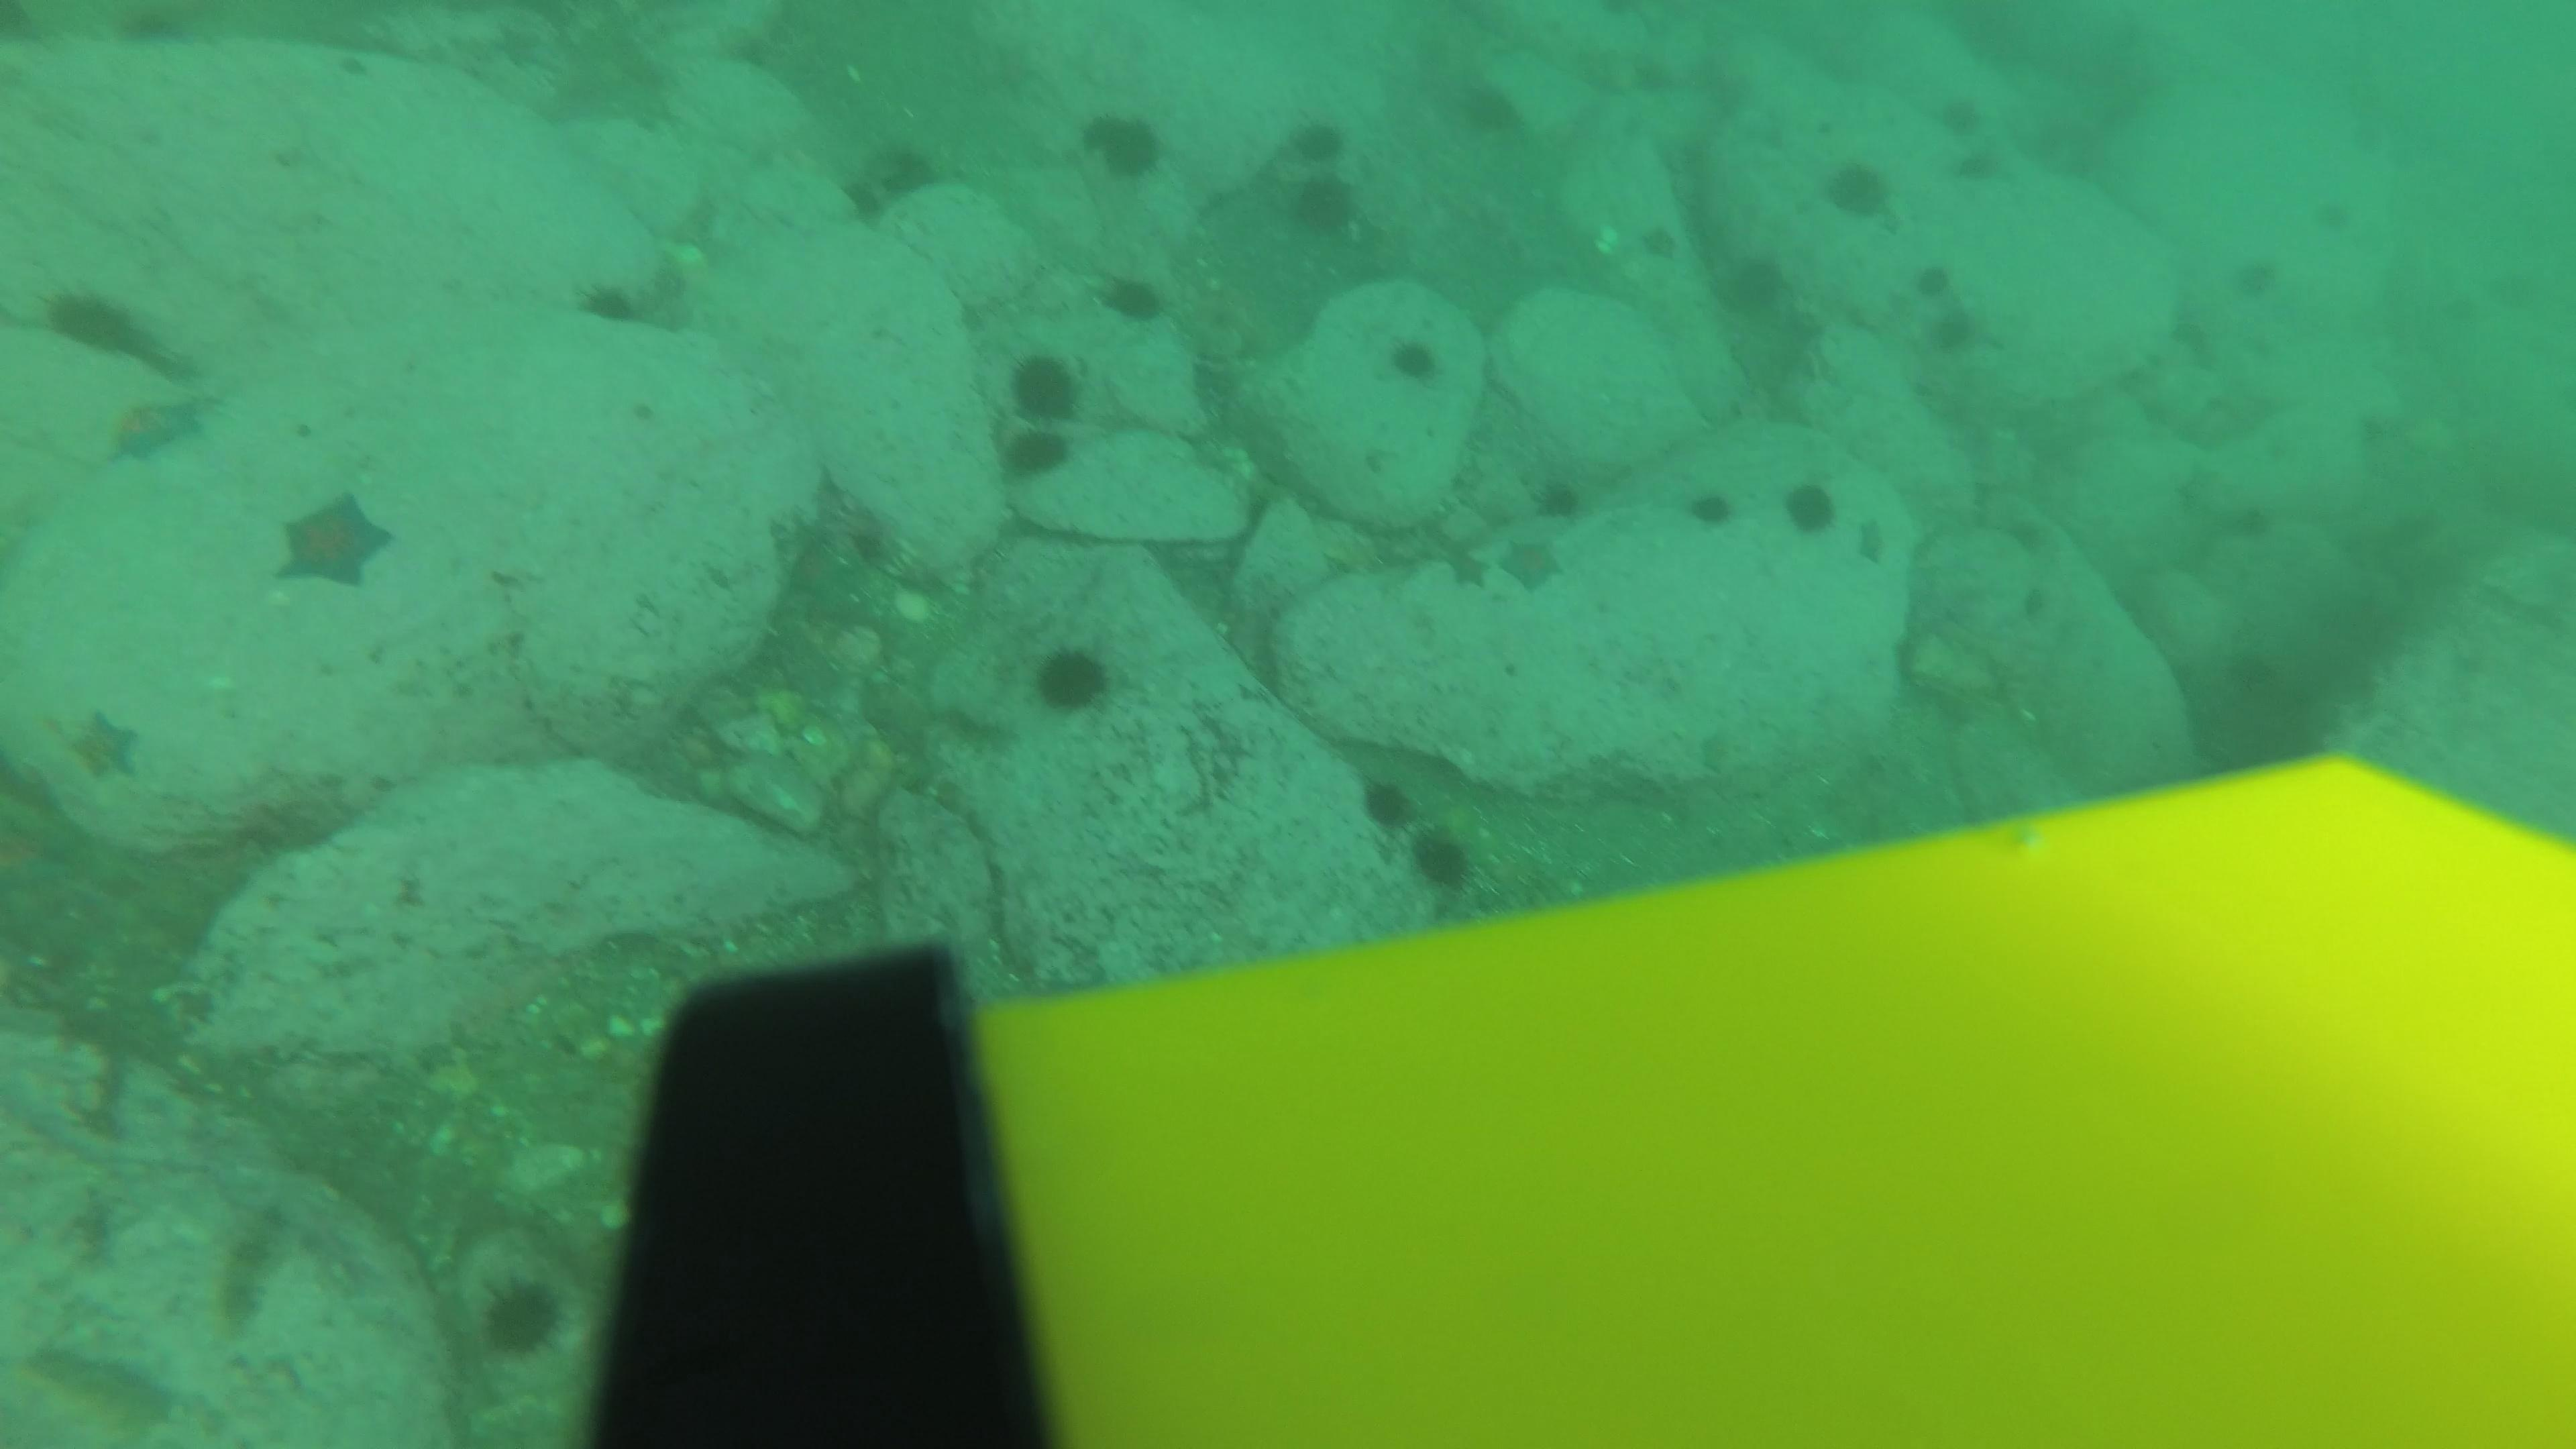echinus: (42, 280, 179, 375), (840, 136, 938, 221), (476, 1272, 566, 1361), (1028, 637, 1118, 717), (1003, 349, 1085, 433), (1711, 248, 1790, 322), (1284, 168, 1361, 241), (996, 412, 1074, 483), (1407, 821, 1479, 893), (1284, 113, 1353, 189), (1821, 154, 1893, 221), (1453, 76, 1523, 142), (1097, 119, 1168, 182), (577, 272, 644, 331), (1780, 476, 1840, 538), (1357, 771, 1417, 833), (1099, 269, 1164, 326), (1385, 333, 1442, 386), (1530, 471, 1587, 524), (1921, 304, 1978, 354), (1684, 483, 1736, 533), (1907, 258, 1960, 303), (1953, 154, 2006, 198), (1937, 94, 1990, 138), (2314, 193, 2367, 237), (2229, 258, 2282, 303), (2006, 587, 2059, 632), (2235, 646, 2288, 690), (2224, 487, 2277, 531), (2157, 295, 2210, 340), (2001, 510, 2054, 554), (1079, 108, 1125, 154)
starfish: (272, 488, 395, 593), (101, 389, 211, 467), (65, 704, 145, 784), (1495, 533, 1564, 594), (1433, 527, 1493, 594), (1638, 216, 1691, 272), (1851, 517, 1904, 571)
